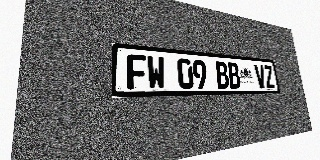0: (177, 58, 194, 89)
9: (192, 59, 209, 89)
B: (215, 61, 230, 89), (227, 62, 241, 89)
F: (126, 54, 147, 90)
V: (254, 64, 267, 88)
W: (146, 56, 166, 89)
Z: (263, 65, 275, 88)
